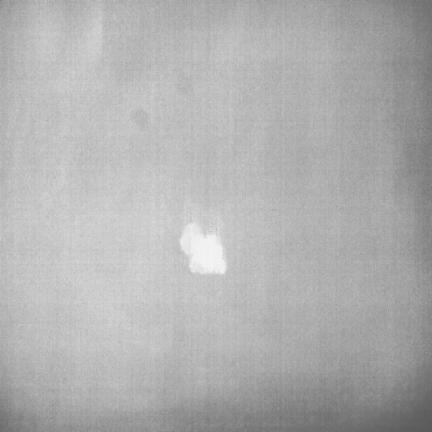flukeprints: (180, 224, 225, 273)
